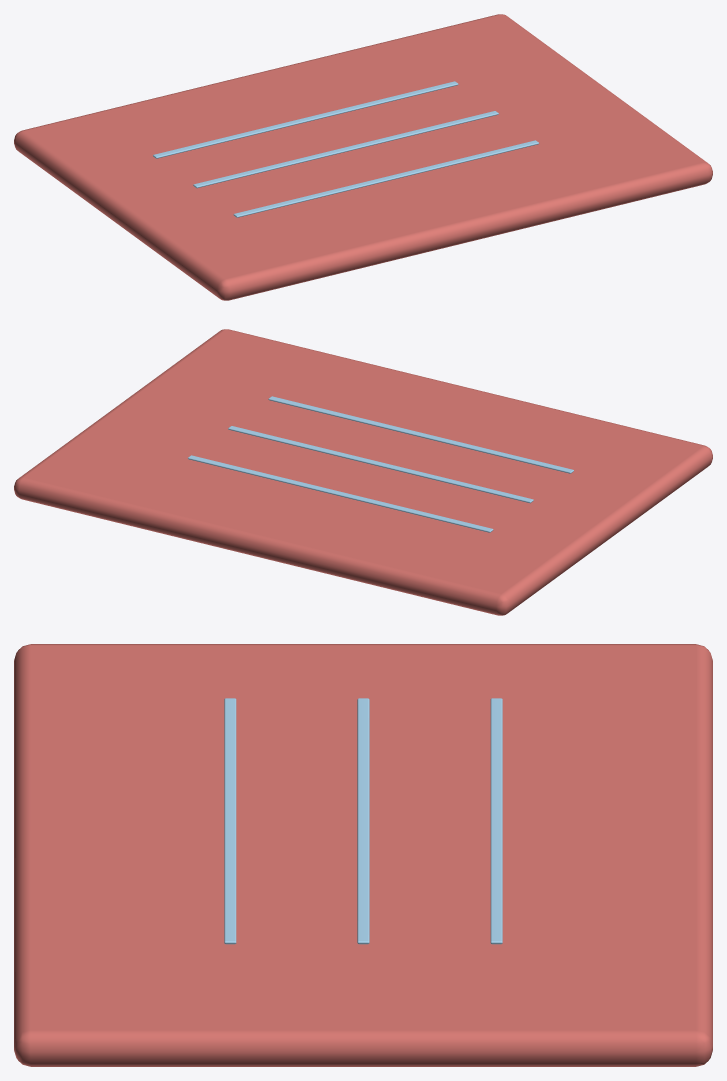
Rendered from officeStickyNoteRed.glb.
The picture shows the model from 3 angles, top to bottom: view 1: azimuth 30°, elevation 25°; view 2: azimuth 150°, elevation 25°; view 3: azimuth 270°, elevation 25°; orthographic projection. The views are drawn at different scales.
Parts seen in each view (by area): view 1: Paper, Printed line.001, Printed line, Printed line.002; view 2: Paper, Printed line.001, Printed line.002, Printed line; view 3: Paper, Printed line, Printed line.002, Printed line.001.
Part boxes in pixels (x1=…): Paper: x1=14, y1=14, x2=712, y2=300; Printed line.001: x1=193, y1=111, x2=498, y2=188; Printed line: x1=233, y1=140, x2=538, y2=217; Printed line.002: x1=153, y1=81, x2=458, y2=158; Paper: x1=14, y1=329, x2=712, y2=615; Printed line.001: x1=228, y1=426, x2=533, y2=503; Printed line.002: x1=188, y1=455, x2=493, y2=532; Printed line: x1=268, y1=396, x2=573, y2=473; Paper: x1=14, y1=644, x2=712, y2=1066; Printed line: x1=224, y1=698, x2=236, y2=944; Printed line.002: x1=490, y1=698, x2=502, y2=944; Printed line.001: x1=357, y1=698, x2=369, y2=944.
Size of the model in its own units: 0.85 by 0.039 by 0.63.
